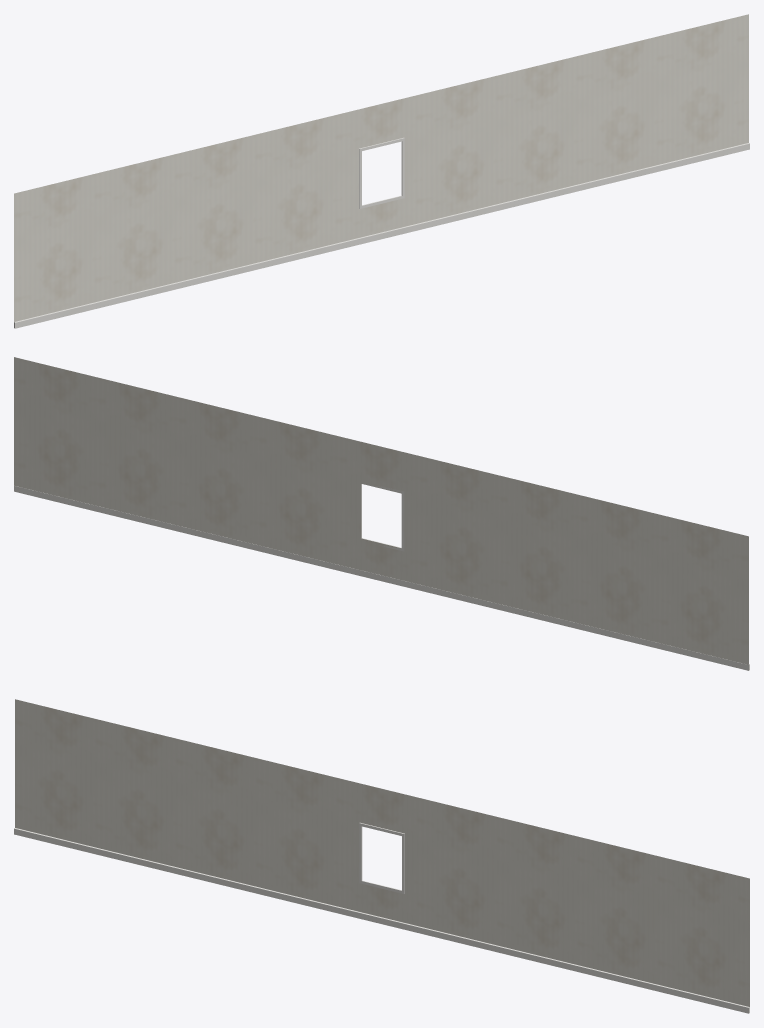
File: wall18_hatch_hi.gltf
3 renders of one model, top to bottom at view 1: azimuth 30°, elevation 25°; view 2: azimuth 150°, elevation 25°; view 3: azimuth 330°, elevation 25°, orthographic.
Visible parts, largest first — view 1: jx_w18_hatch_hi; view 2: jx_w18_hatch_hi; view 3: jx_w18_hatch_hi.
Part boxes in pixels (left/top/right/bottom): jx_w18_hatch_hi: left=14, top=14, right=749, bottom=328; jx_w18_hatch_hi: left=14, top=357, right=749, bottom=670; jx_w18_hatch_hi: left=14, top=699, right=749, bottom=1013.
Size of the model in its own units: 18.3 by 3.2 by 0.05.
2 materials, 2 textured.
